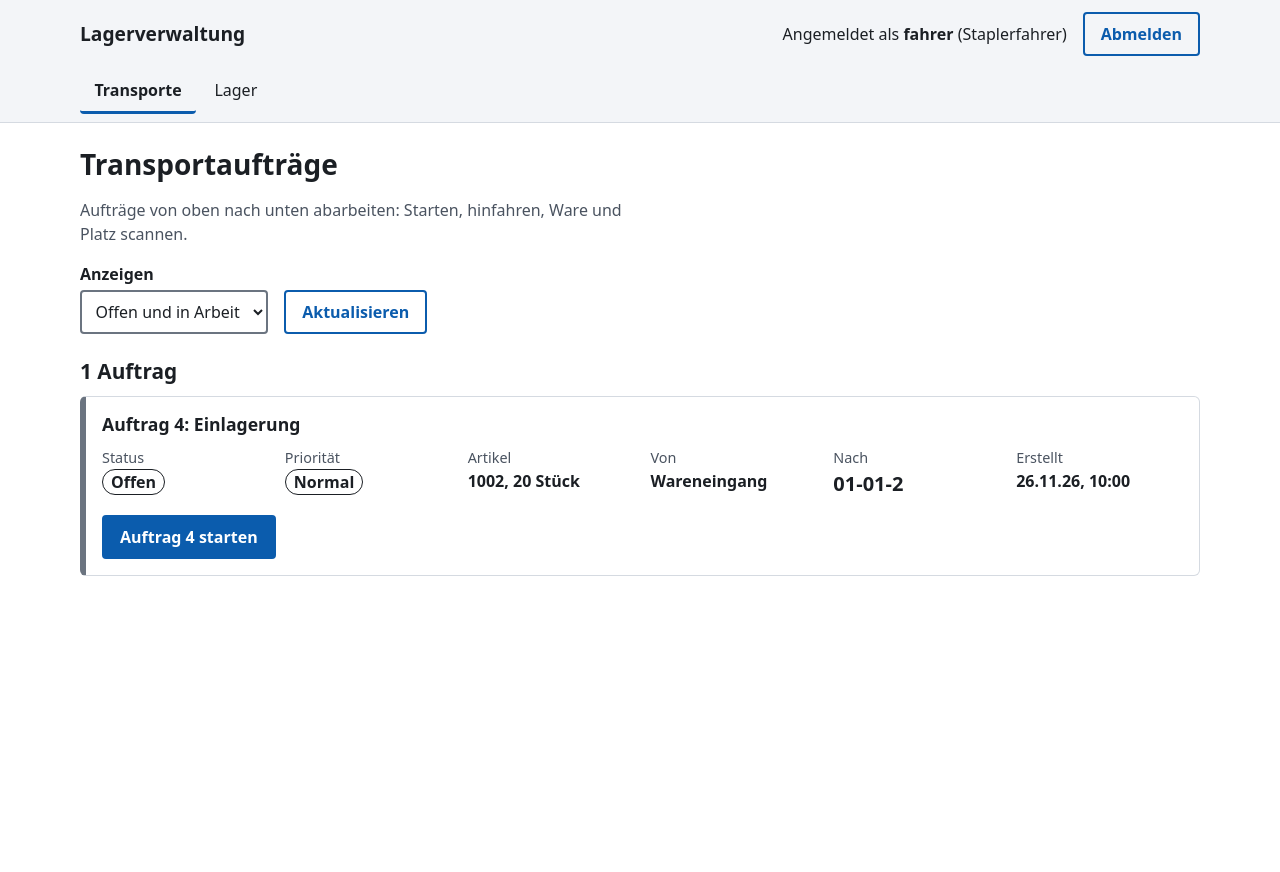
Test: Starten: Erfolg wird angesagt, Fokus landet auf der Karte, das Scanformular erscheint
Click the button "Auftrag 4 starten" at (189, 537), box [102,515,276,559]
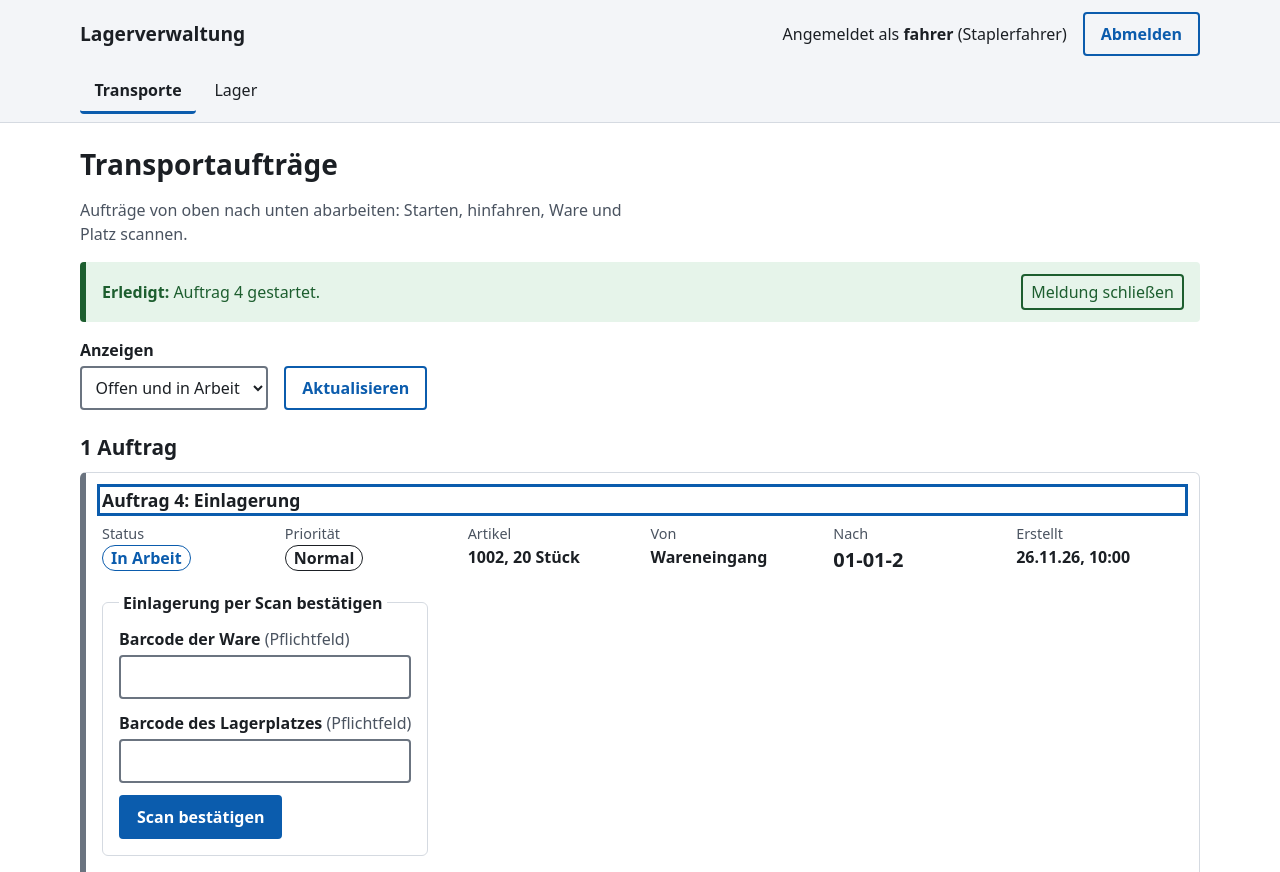
Result: the element "Einlagerung per Scan bestätigen" is shown at [102,591,428,856]
